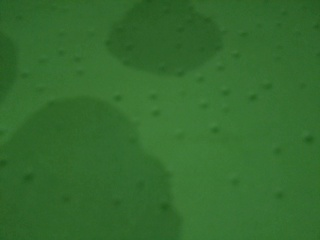Water_detected: (34, 114, 211, 240), (138, 11, 211, 58)
